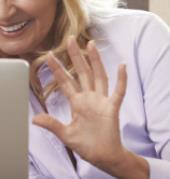down: (30, 36, 128, 162)
